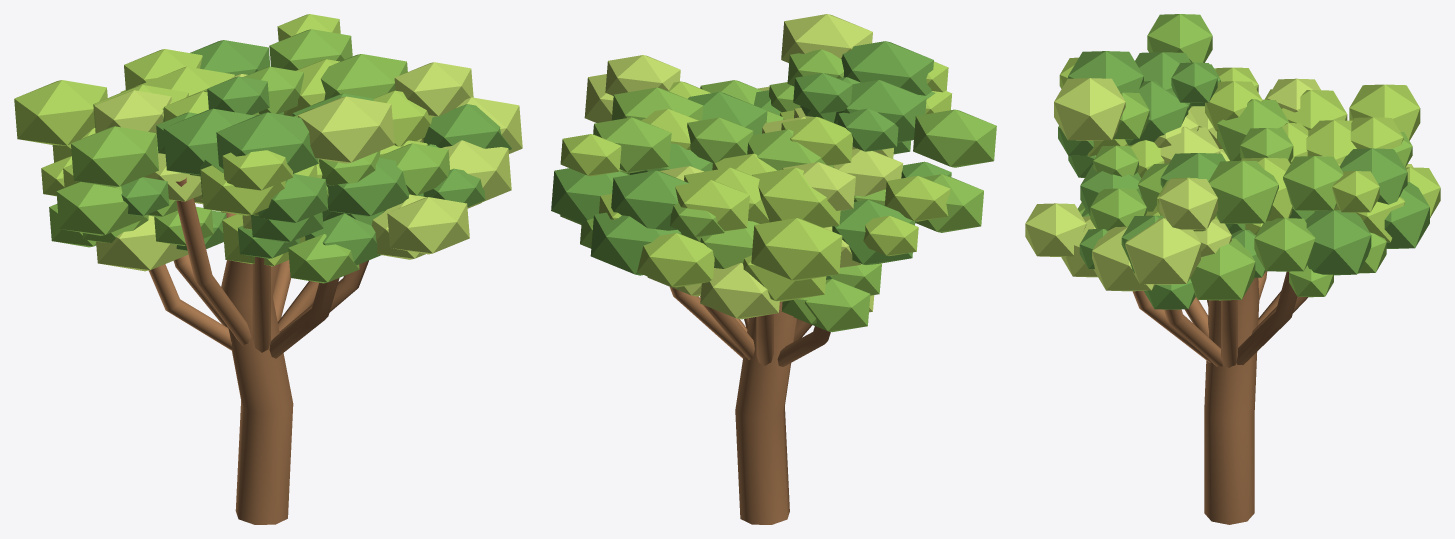
File: tree.glb
3 renders of one model, left to right at view 1: azimuth 30°, elevation 25°; view 2: azimuth 150°, elevation 25°; view 3: azimuth 270°, elevation 25°, orthographic. The views are drawn at different scales.
Parts seen in each view (by area): view 1: tree_trunk, tree_leaf_cluster.077, tree_leaf_cluster.043, tree_leaf_cluster.060, tree_leaf_cluster.095, tree_leaf_cluster.080, tree_leaf_cluster.064, tree_leaf_cluster.074, tree_leaf_cluster.008, tree_leaf_cluster.098, tree_branch.005, tree_leaf_cluster.022 (+40 smaller); view 2: tree_trunk, tree_leaf_cluster.043, tree_leaf_cluster.060, tree_leaf_cluster.080, tree_leaf_cluster.038, tree_leaf_cluster.030, tree_leaf_cluster.013, tree_leaf_cluster.077, tree_leaf_cluster.042, tree_leaf_cluster.014, tree_leaf_cluster.032, tree_leaf_cluster.074 (+37 smaller); view 3: tree_trunk, tree_leaf_cluster.077, tree_leaf_cluster.004, tree_leaf_cluster.016, tree_leaf_cluster.022, tree_leaf_cluster.001, tree_leaf_cluster.019, tree_leaf_cluster.095, tree_leaf_cluster.014, tree_leaf_cluster.008, tree_leaf_cluster.060, tree_leaf_cluster.043 (+43 smaller).
Part boxes in pixels (left/top/right/bottom): tree_trunk: left=221, top=260, right=293, bottom=524; tree_leaf_cluster.077: left=298, top=96, right=394, bottom=163; tree_leaf_cluster.043: left=14, top=80, right=107, bottom=145; tree_leaf_cluster.060: left=71, top=126, right=158, bottom=187; tree_leaf_cluster.095: left=387, top=197, right=469, bottom=254; tree_leaf_cluster.080: left=216, top=112, right=318, bottom=173; tree_leaf_cluster.064: left=56, top=182, right=145, bottom=235; tree_leaf_cluster.074: left=163, top=108, right=255, bottom=174; tree_leaf_cluster.008: left=394, top=62, right=473, bottom=116; tree_leaf_cluster.098: left=326, top=158, right=409, bottom=216; tree_branch.005: left=176, top=177, right=251, bottom=345; tree_leaf_cluster.022: left=320, top=54, right=407, bottom=99; tree_trunk: left=735, top=301, right=797, bottom=524; tree_leaf_cluster.043: left=751, top=218, right=842, bottom=280; tree_leaf_cluster.060: left=913, top=109, right=996, bottom=167; tree_leaf_cluster.080: left=841, top=41, right=933, bottom=95; tree_leaf_cluster.038: left=752, top=167, right=840, bottom=227; tree_leaf_cluster.030: left=637, top=233, right=714, bottom=287; tree_leaf_cluster.013: left=611, top=170, right=689, bottom=230; tree_leaf_cluster.077: left=781, top=14, right=872, bottom=62; tree_leaf_cluster.042: left=700, top=263, right=779, bottom=319; tree_leaf_cluster.014: left=593, top=117, right=671, bottom=172; tree_leaf_cluster.032: left=590, top=212, right=681, bottom=275; tree_leaf_cluster.074: left=834, top=80, right=926, bottom=142; tree_trunk: left=1204, top=277, right=1259, bottom=524; tree_leaf_cluster.077: left=1054, top=78, right=1125, bottom=140; tree_leaf_cluster.004: left=1125, top=218, right=1200, bottom=284; tree_leaf_cluster.016: left=1305, top=210, right=1371, bottom=275; tree_leaf_cluster.022: left=1208, top=160, right=1278, bottom=223; tree_leaf_cluster.001: left=1190, top=238, right=1255, bottom=300; tree_leaf_cluster.019: left=1254, top=218, right=1315, bottom=271; tree_leaf_cluster.095: left=1025, top=203, right=1086, bottom=256; tree_leaf_cluster.014: left=1283, top=156, right=1343, bottom=210; tree_leaf_cluster.008: left=1159, top=178, right=1217, bottom=229; tree_leaf_cluster.060: left=1147, top=14, right=1212, bottom=62; tree_leaf_cluster.043: left=1349, top=84, right=1420, bottom=140.
Bounding box in the file's own units: 4.1 × 4.23 × 3.62.
